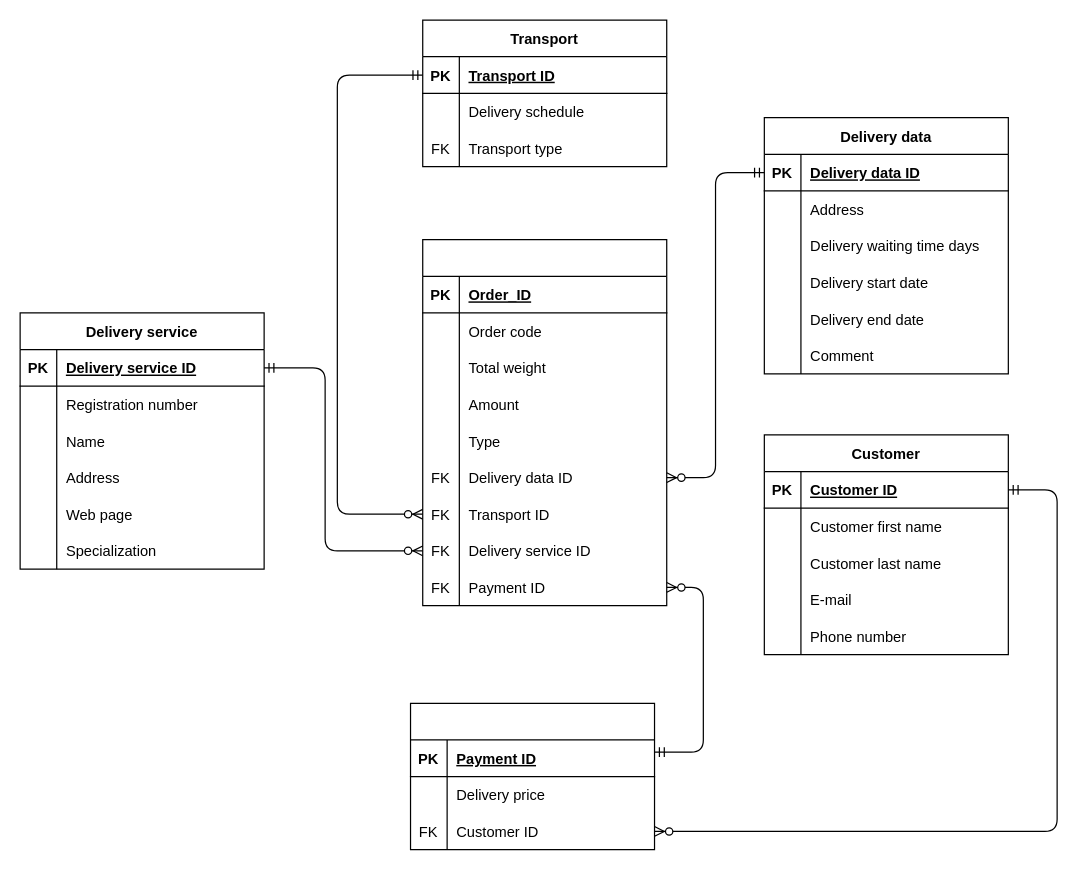
This 1077x870 diagram has some shape labels left out. Here are the shapes that lost their labels. From the top down, the box of each, then its label:
(422, 239, 667, 606): Delivery order
(409, 702, 655, 850): Order payment
